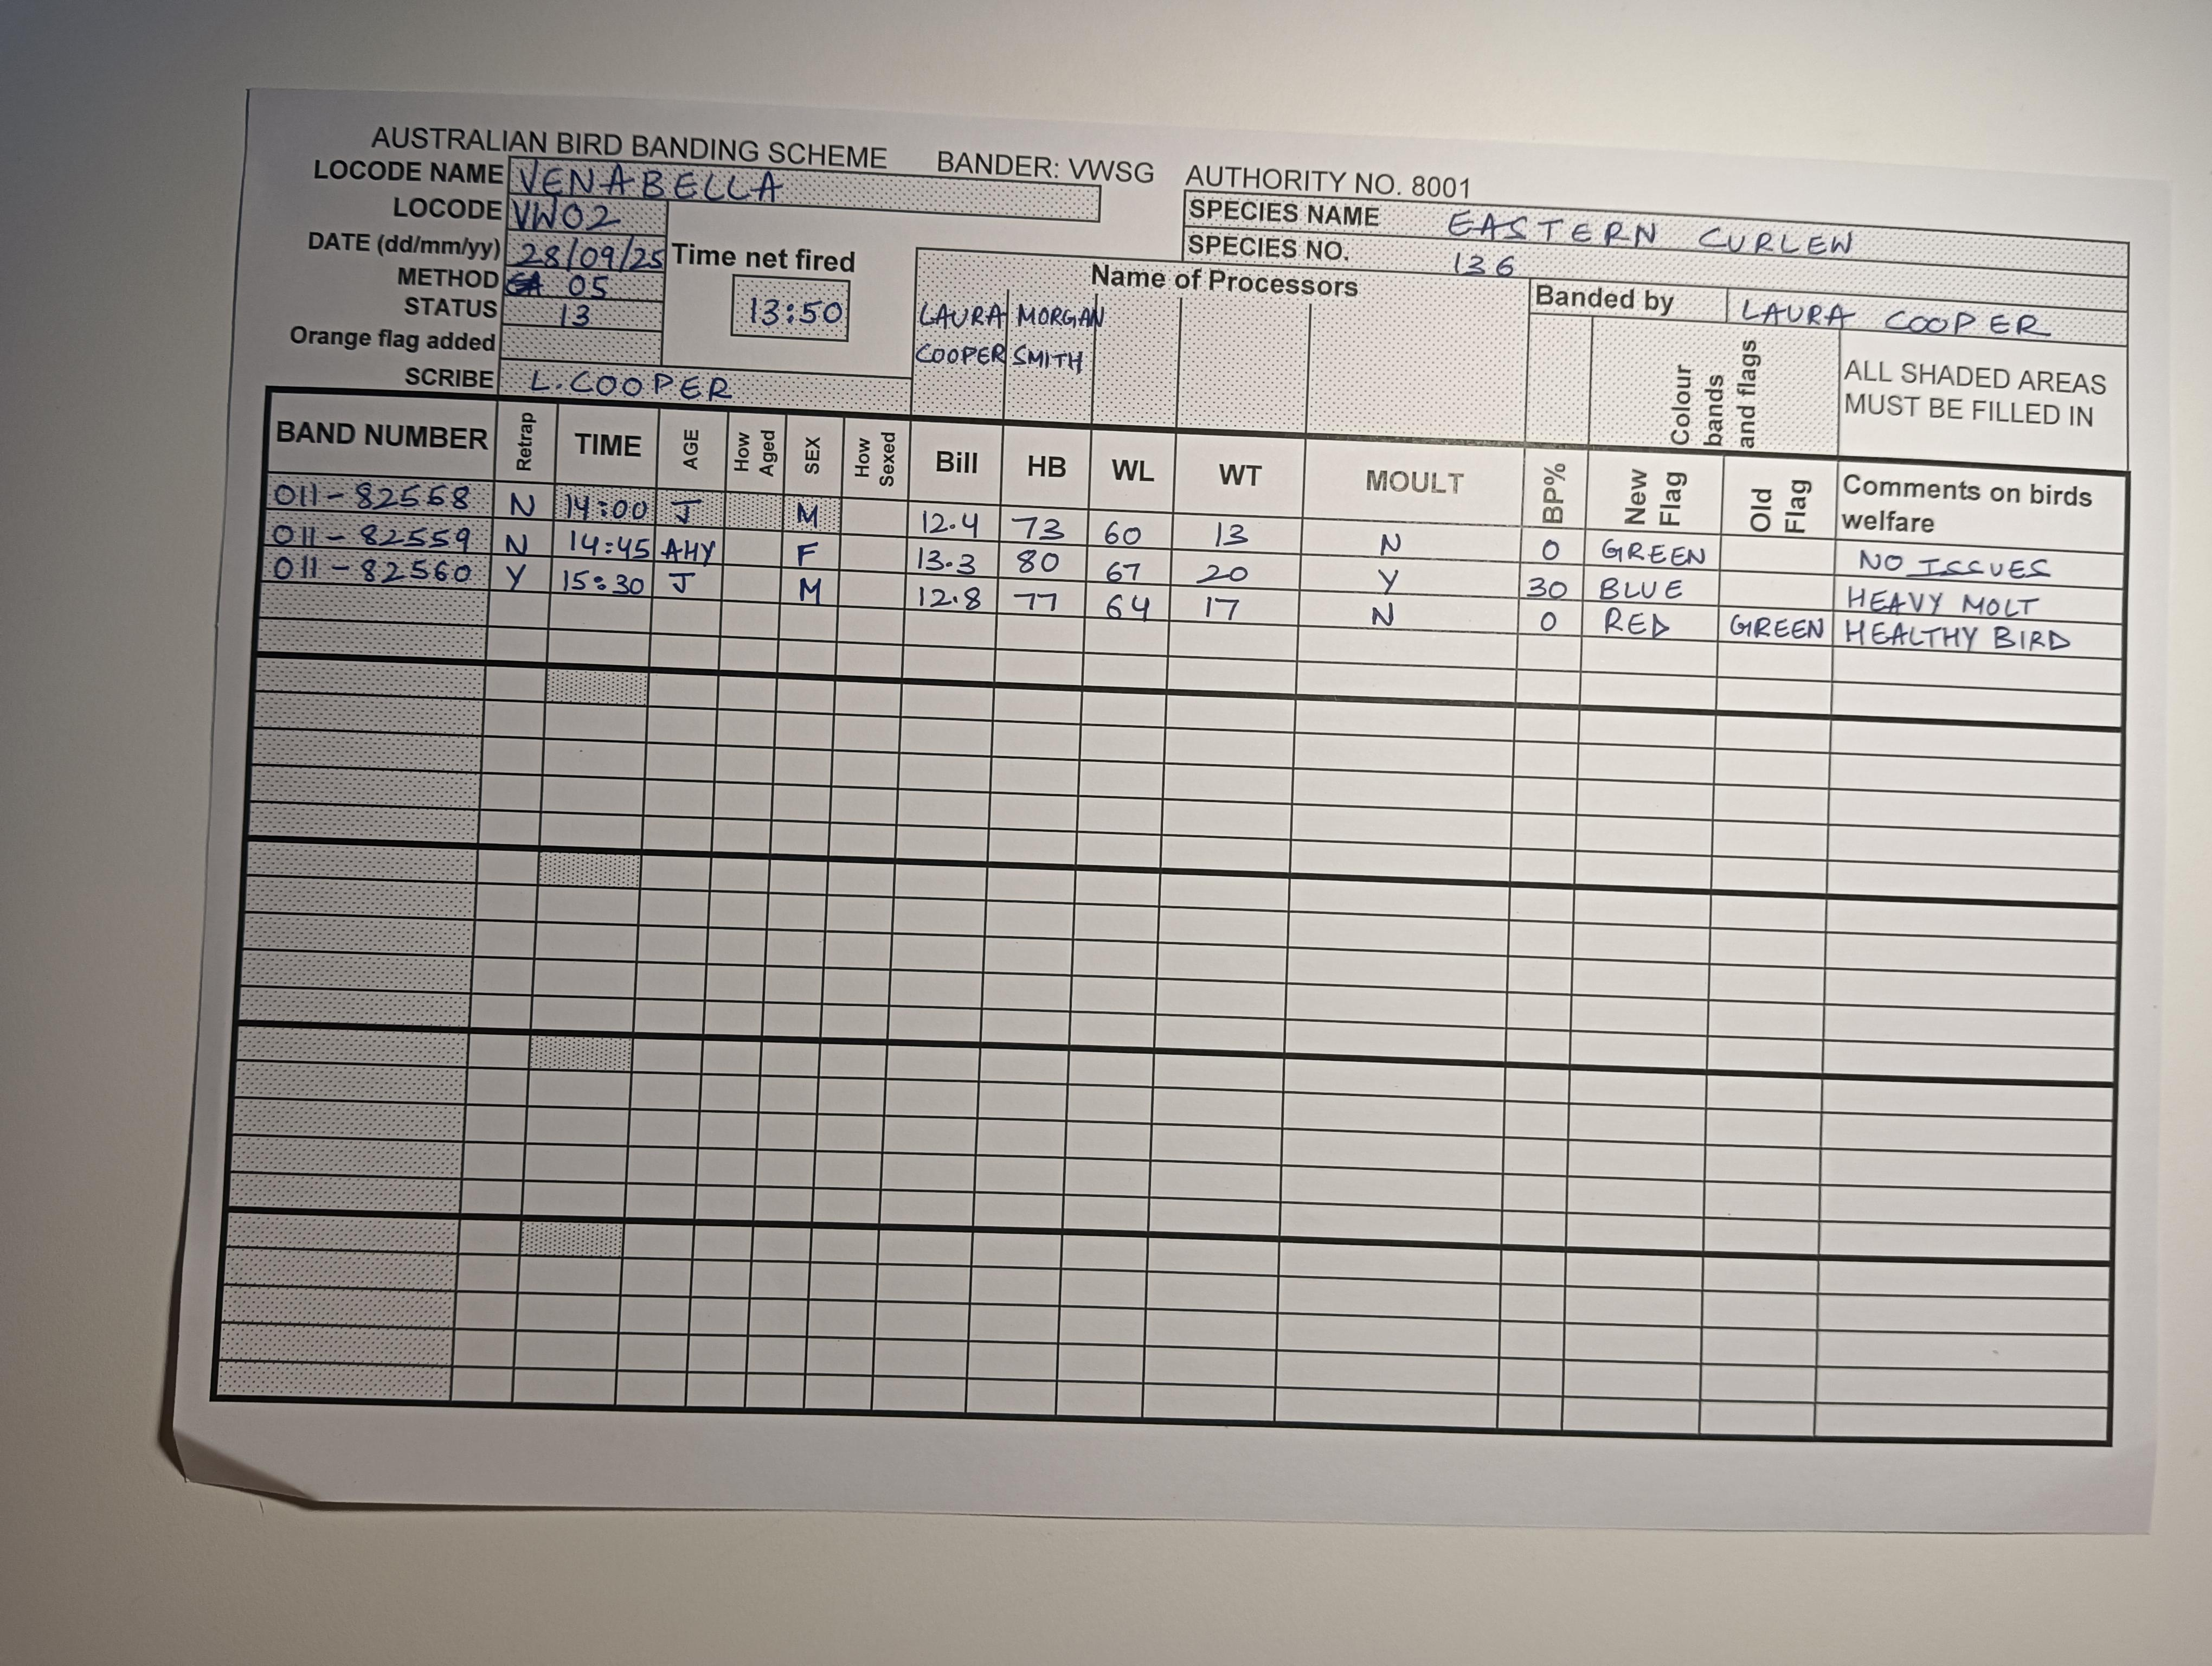BANDED_BY: (1535, 280, 2135, 345)
DATA: (262, 474, 2130, 595), (262, 507, 2126, 626), (262, 546, 2128, 661)
DATE: (303, 222, 670, 269)
LOCOCODE: (379, 192, 673, 235)
LOCOCODE_NAME: (304, 145, 1102, 224)
METHOD: (374, 264, 671, 297)
NAME_OF_PROCESSORS: (1002, 278, 1110, 429), (909, 280, 1012, 427)
ORANGE_FLAG_ADDED: (282, 317, 666, 364)
SCRIBE: (395, 357, 909, 415)
SPECIES_NAME: (1186, 192, 2130, 273)
SPECIES_NO: (1184, 229, 2130, 311)
STATUS: (379, 289, 666, 331)
TIME_NET_FIRED: (666, 233, 878, 355)
